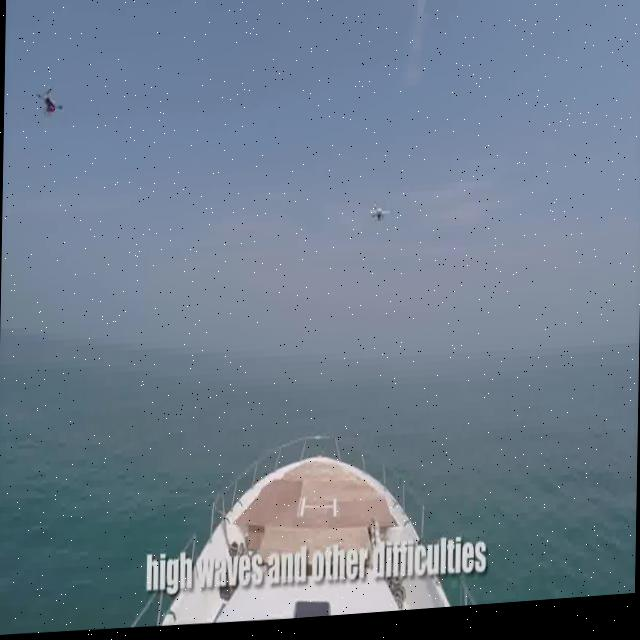drone: (32, 81, 62, 124), (367, 203, 392, 232)
